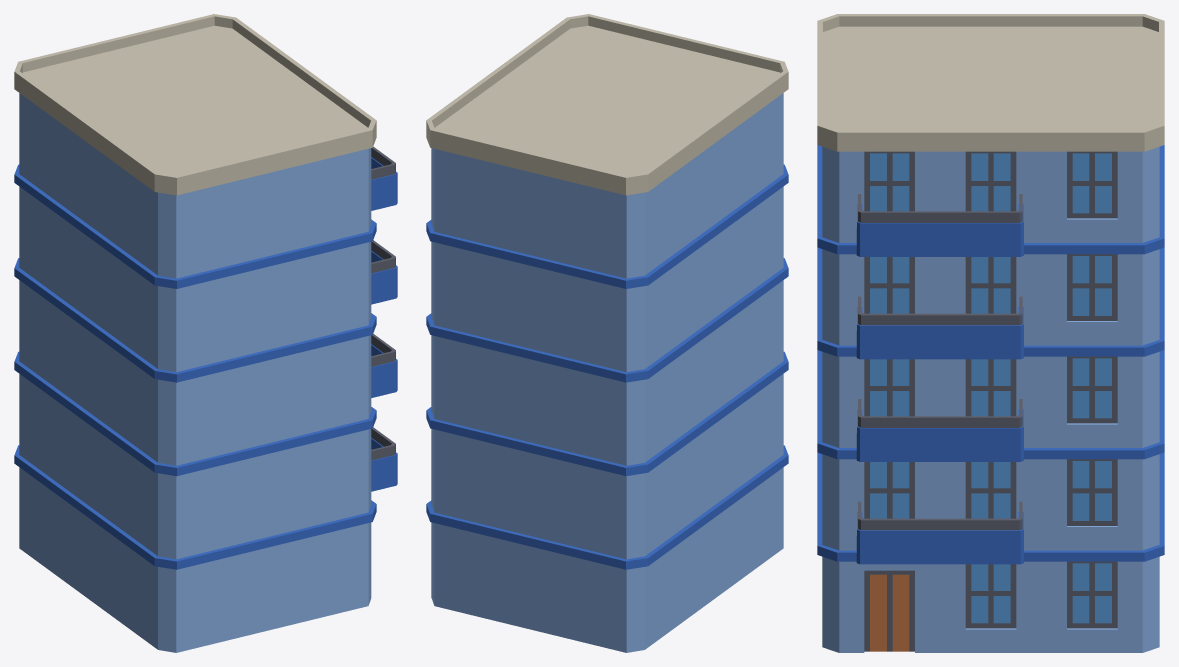
3 renders of one model, left to right at view 1: azimuth 30°, elevation 25°; view 2: azimuth 150°, elevation 25°; view 3: azimuth 270°, elevation 25°, orthographic. The views are drawn at different scales.
Visible parts, largest first — view 1: Predio 8.001; view 2: Predio 8.001; view 3: Predio 8.001.
Part boxes in pixels (x1=…): Predio 8.001: x1=14, y1=14, x2=397, y2=652; Predio 8.001: x1=426, y1=14, x2=788, y2=652; Predio 8.001: x1=817, y1=14, x2=1164, y2=652.
Bounding box in the file's own units: 5694 × 10256 × 6180.
